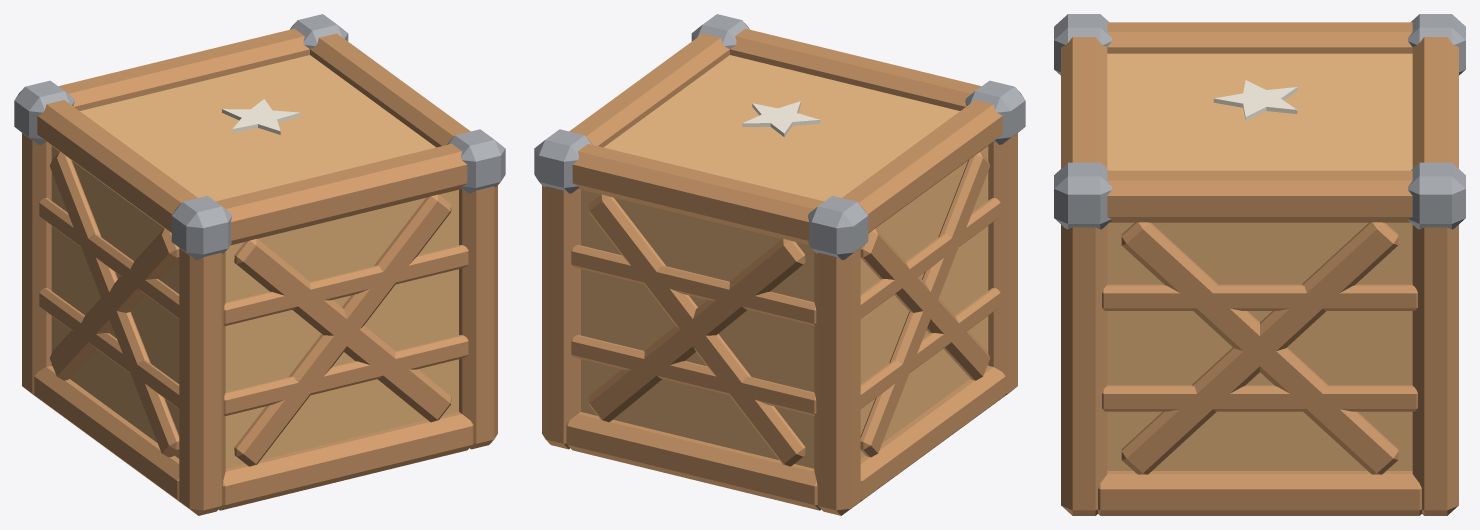
File: crate_garden.glb
3 renders of one model, left to right at view 1: azimuth 30°, elevation 25°; view 2: azimuth 150°, elevation 25°; view 3: azimuth 270°, elevation 25°, orthographic. The views are drawn at different scales.
Visible parts, largest first — view 1: crate_0, crate_1; view 2: crate_0, crate_1; view 3: crate_0, crate_1.
Part boxes in pixels (<box>): crate_0: <box>22,28,497,515</box>; crate_1: <box>14,14,505,416</box>; crate_0: <box>542,28,1017,515</box>; crate_1: <box>534,14,1025,416</box>; crate_0: <box>1061,22,1458,515</box>; crate_1: <box>1054,14,1465,411</box>.
Size of the model in its own units: 0.89 by 0.815 by 0.89.
